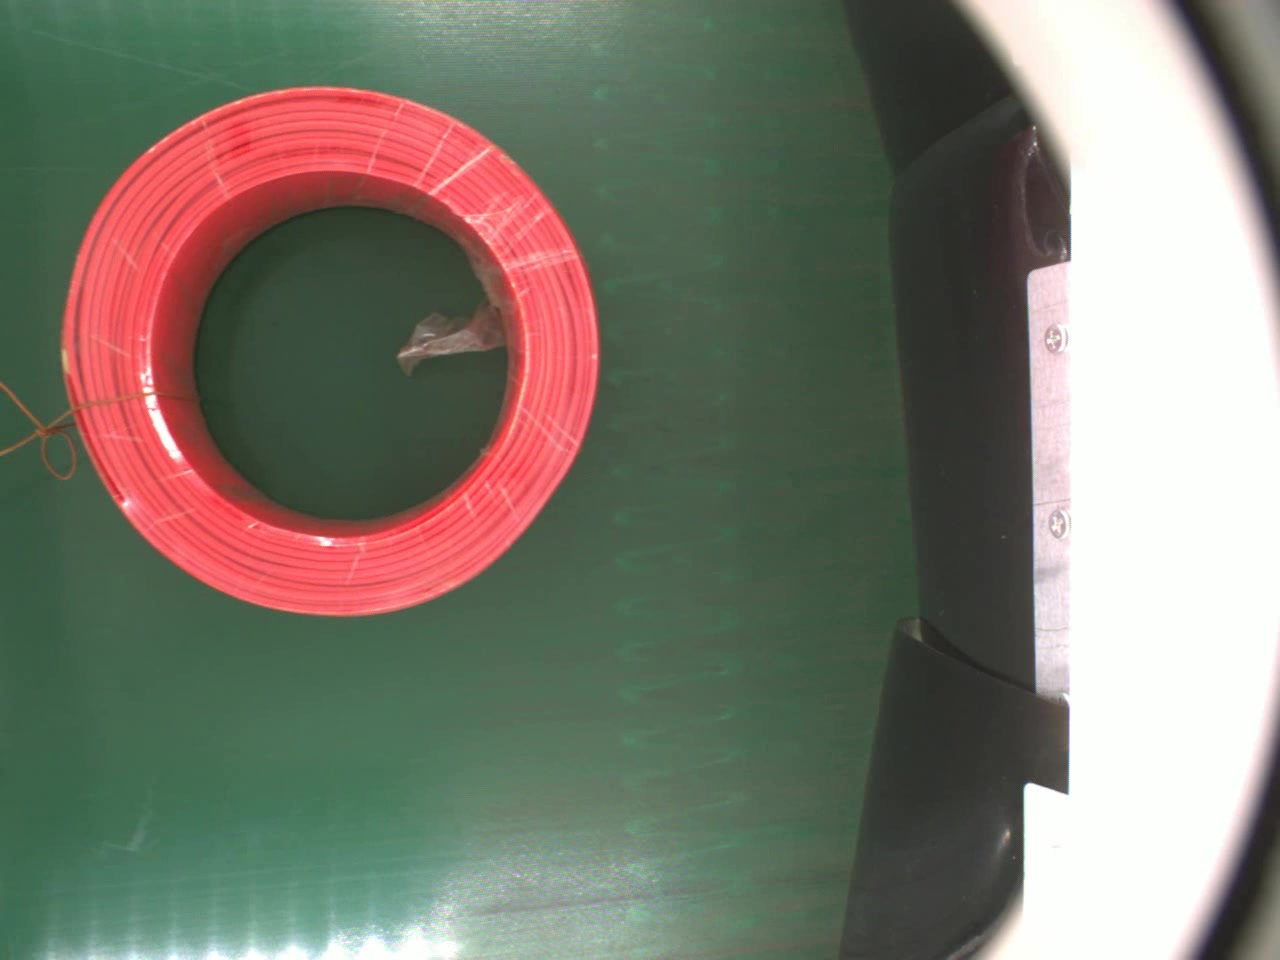red: (65, 82, 609, 622)
